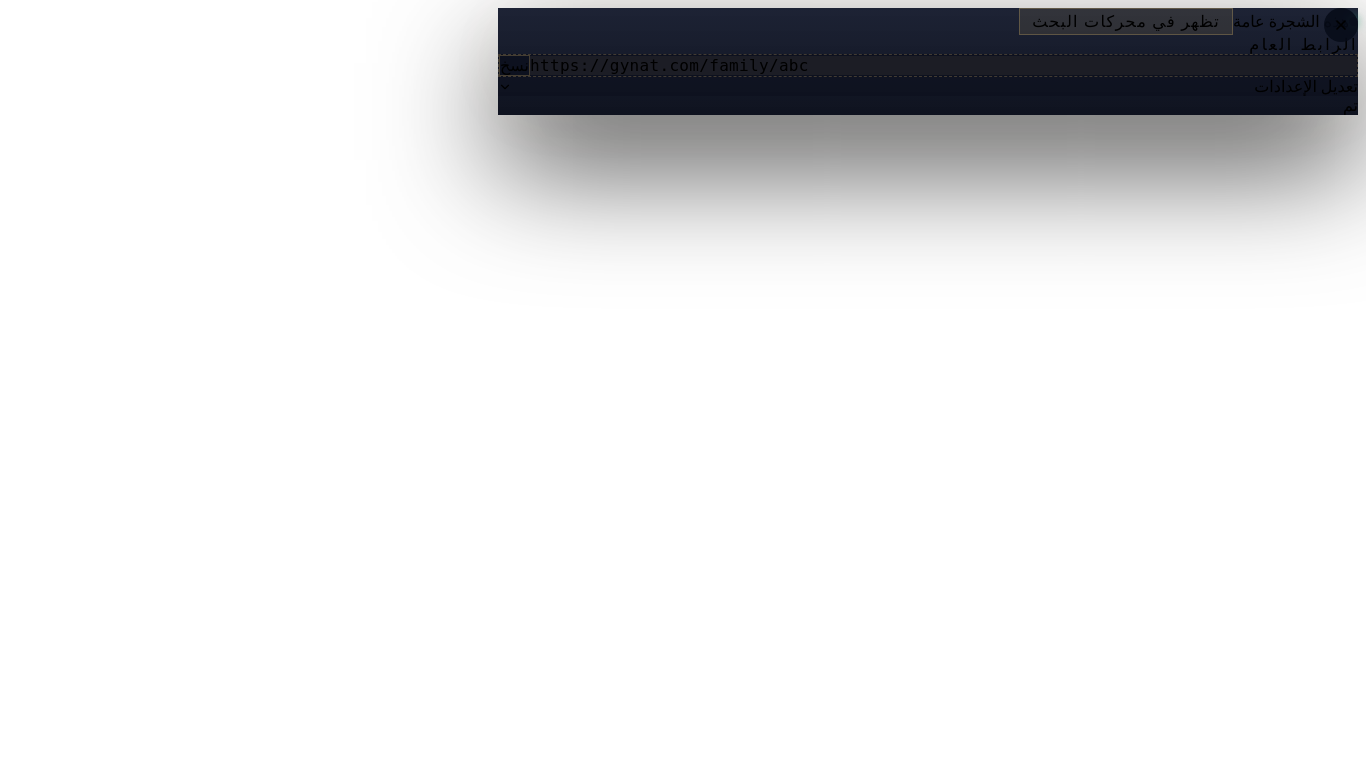
Test: ManagePublicPanel — person-pages opt-in › an already search-listed tree can toggle it without republishing
This screenshot has width=1366, height=768.
Click the button "تعديل الإعدادات" at (1306, 86), box [498,77,1358,96]
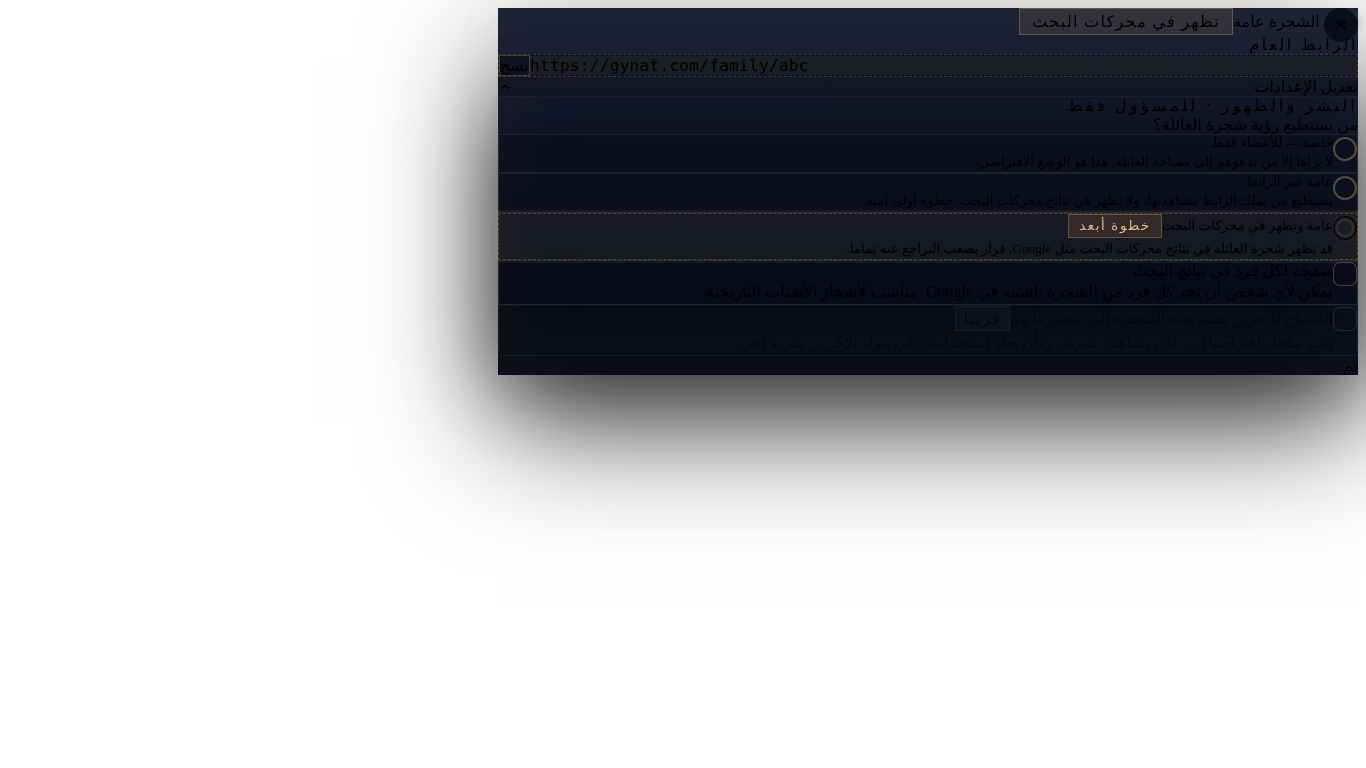
Now the checkbox labelled "صفحة لكل فرد في نتائج البحث" is shown, box [498,260,1358,305]
